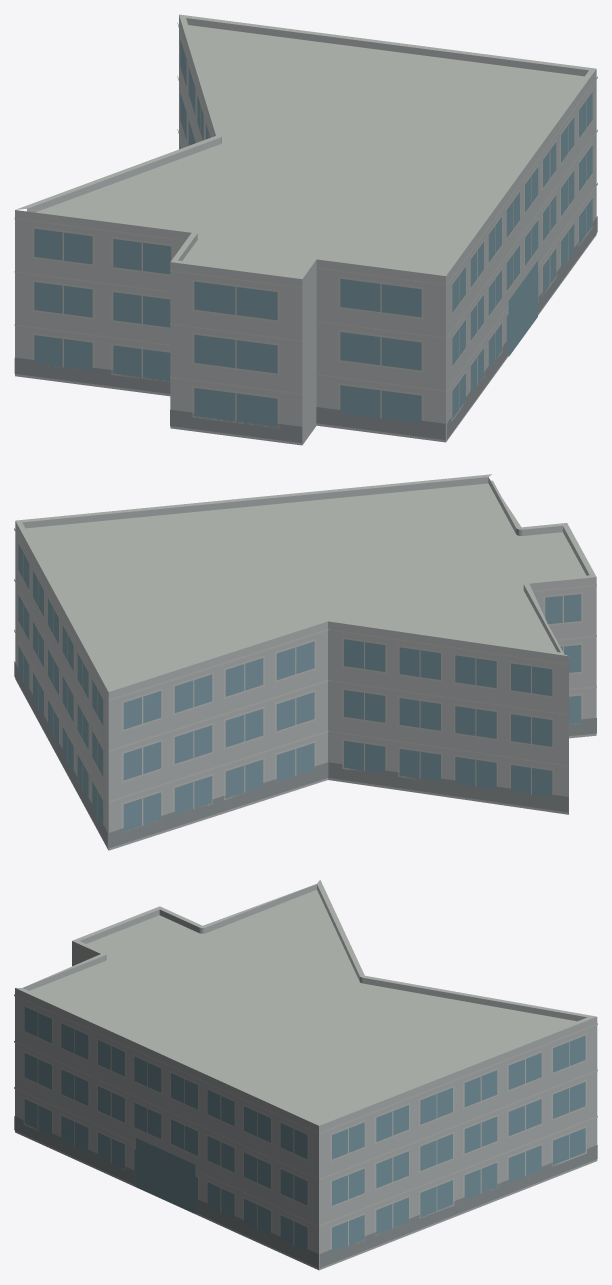
The model's file is public-dd2df297-7d7c-476a-a1ea-eda74a059e7c.glb.
3 views of the same model, one above another, from view 1: azimuth 30°, elevation 25°; view 2: azimuth 150°, elevation 25°; view 3: azimuth 270°, elevation 25° (orthographic). The views are drawn at different scales.
Visible parts, largest first — view 1: public-dd2df297-7d7c-476a-a1ea-eda74a059e7c; view 2: public-dd2df297-7d7c-476a-a1ea-eda74a059e7c; view 3: public-dd2df297-7d7c-476a-a1ea-eda74a059e7c.
Part boxes in pixels (x1,y1,x2,y2): public-dd2df297-7d7c-476a-a1ea-eda74a059e7c: (14,14,597,445); public-dd2df297-7d7c-476a-a1ea-eda74a059e7c: (14,474,596,850); public-dd2df297-7d7c-476a-a1ea-eda74a059e7c: (14,880,597,1270).
Size of the model in its own units: 33.56 by 9.15 by 33.51.
